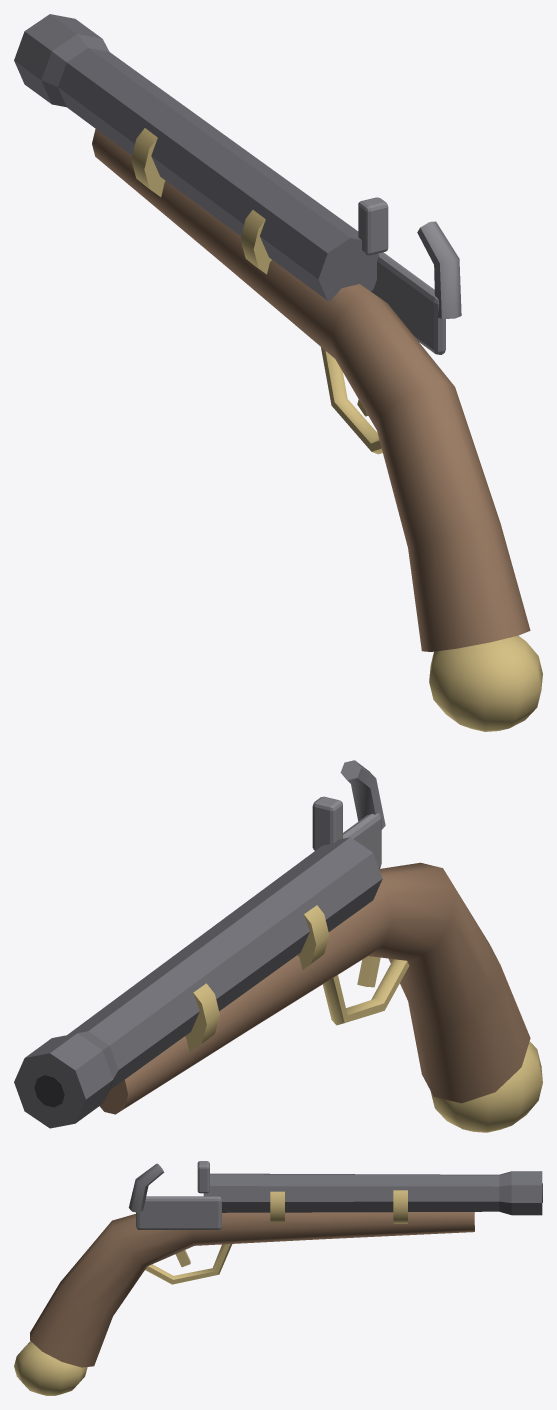
The model's file is flintlock.glb.
3 renders of one model, top to bottom at view 1: azimuth 30°, elevation 25°; view 2: azimuth 150°, elevation 25°; view 3: azimuth 270°, elevation 25°, orthographic. The views are drawn at different scales.
Visible parts, largest first — view 1: flintlock; view 2: flintlock; view 3: flintlock.
Boxes of the visible parts, box(x1,y1,x2,y2) form: flintlock: box(14, 14, 542, 731); flintlock: box(14, 760, 542, 1132); flintlock: box(14, 1161, 542, 1395).
Size of the model in its own units: 0.0519 by 0.2149 by 0.4295.
